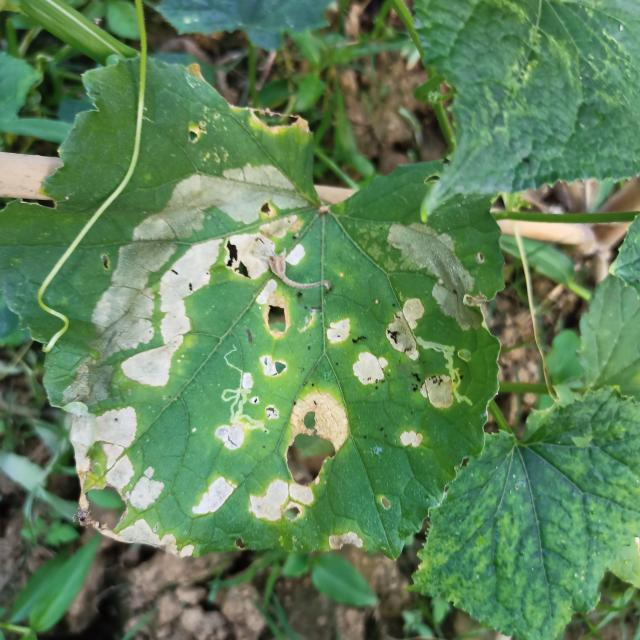disease_cucumber: (61, 386, 372, 559), (86, 163, 313, 391), (322, 215, 493, 451)
